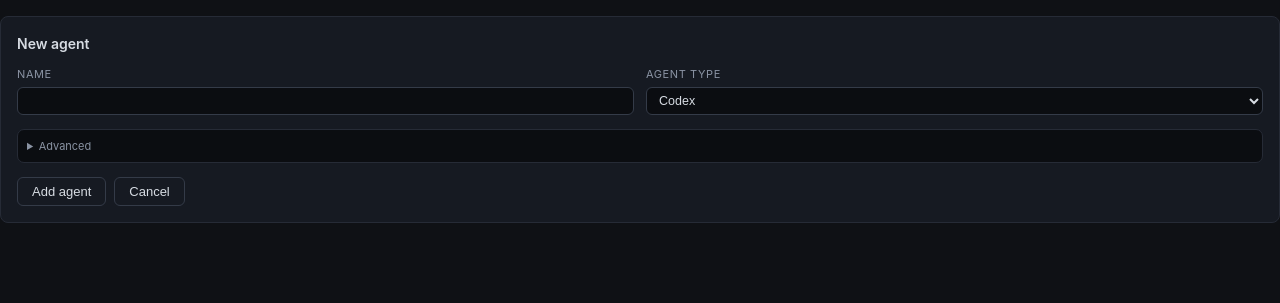
Test case: AgentForm environment validation › keeps existing name validation
Click the button "Add agent": coordinates (62, 192) top-left (17, 177), bottom-right (106, 206)
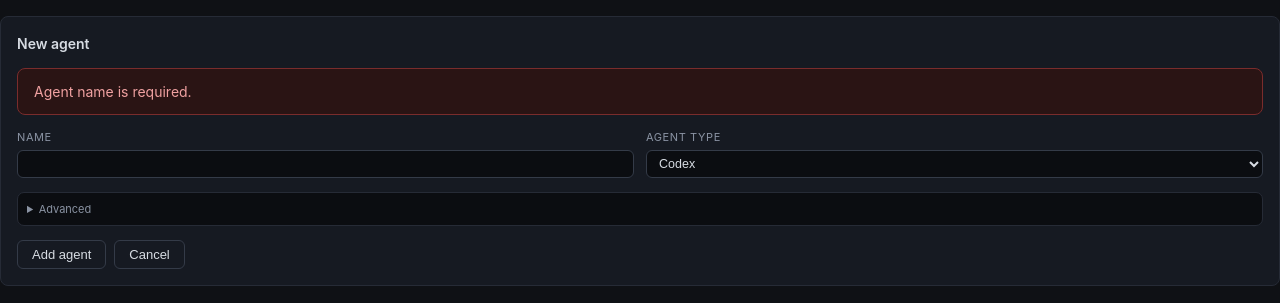
Check: the message reads "Agent name is required.", box top-left (34, 83), bottom-right (192, 100)
